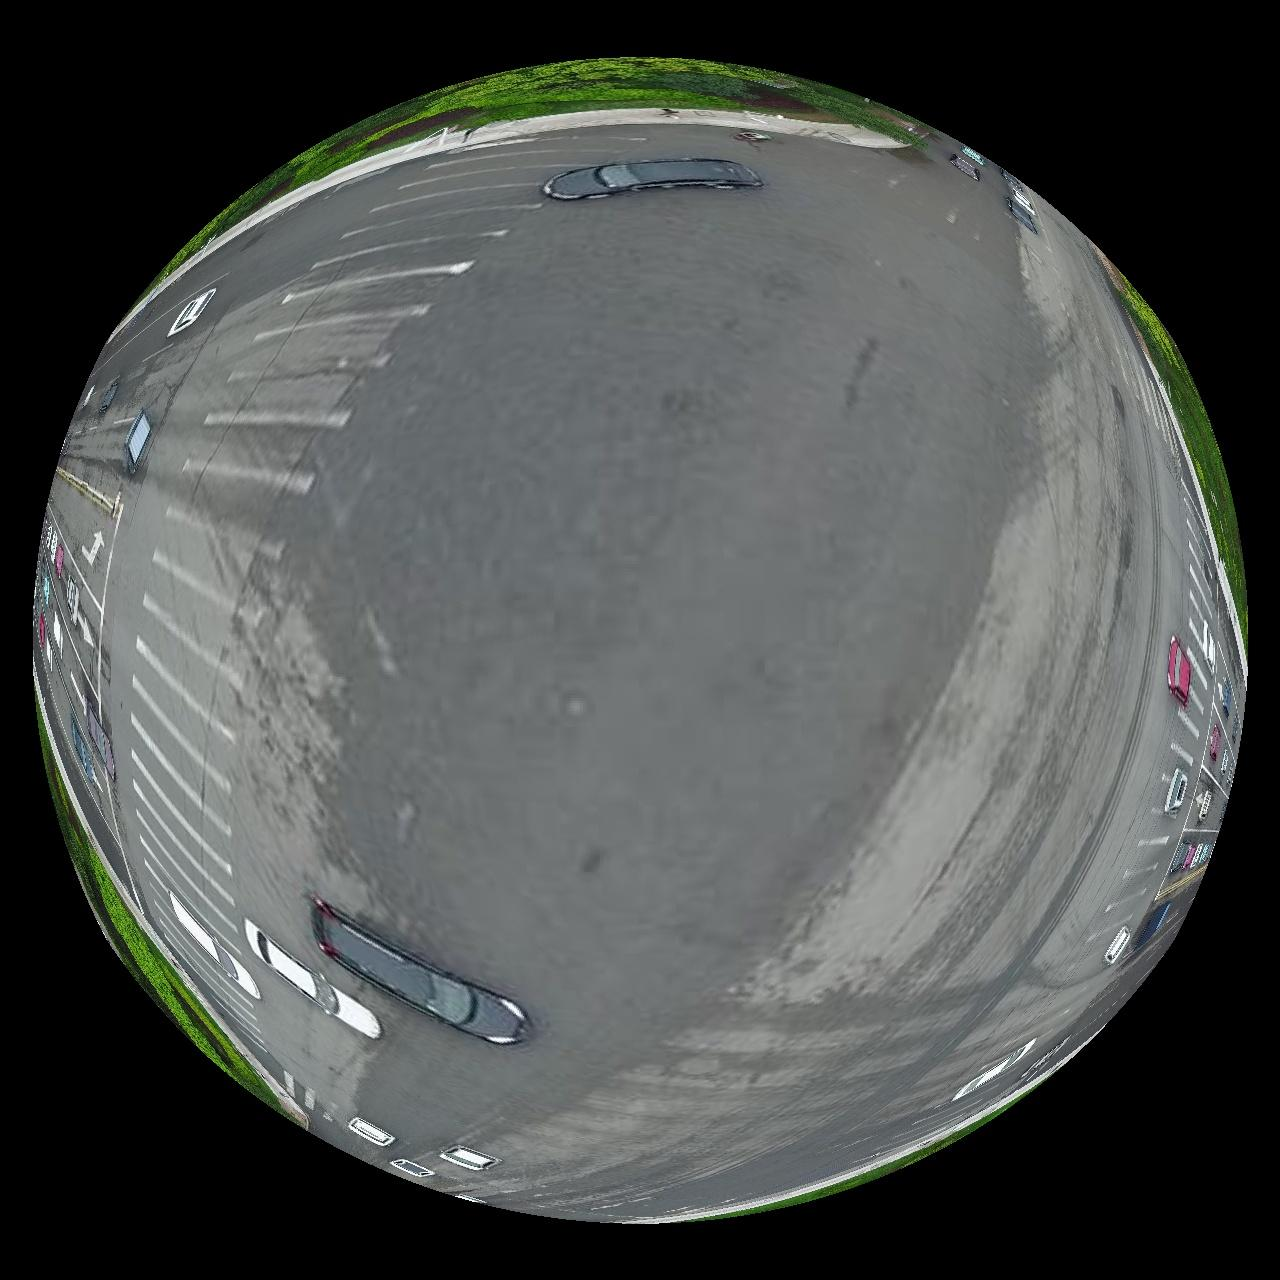cars: (312, 898, 528, 1046), (244, 920, 381, 1040), (543, 156, 764, 200), (166, 287, 214, 335), (122, 408, 154, 474), (1170, 636, 1195, 706), (441, 1147, 498, 1174), (347, 1119, 395, 1150), (1106, 927, 1135, 966), (389, 1160, 435, 1182)
trees: (186, 57, 937, 251), (40, 726, 279, 1110), (1115, 270, 1250, 630)
